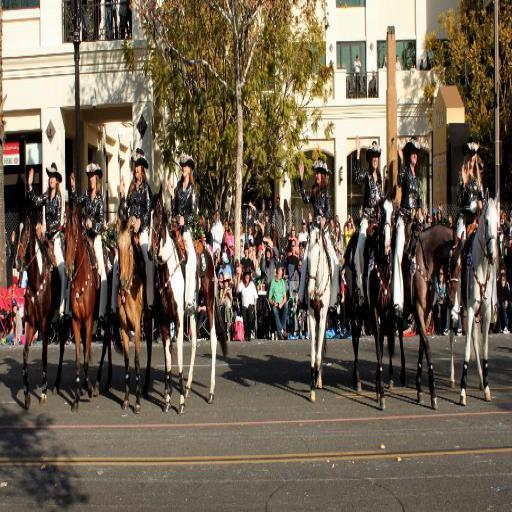horse: (144, 180, 230, 416), (386, 223, 464, 411), (349, 174, 397, 410), (448, 189, 500, 402), (14, 214, 66, 416), (64, 204, 112, 416), (306, 222, 350, 404), (116, 212, 152, 415)
